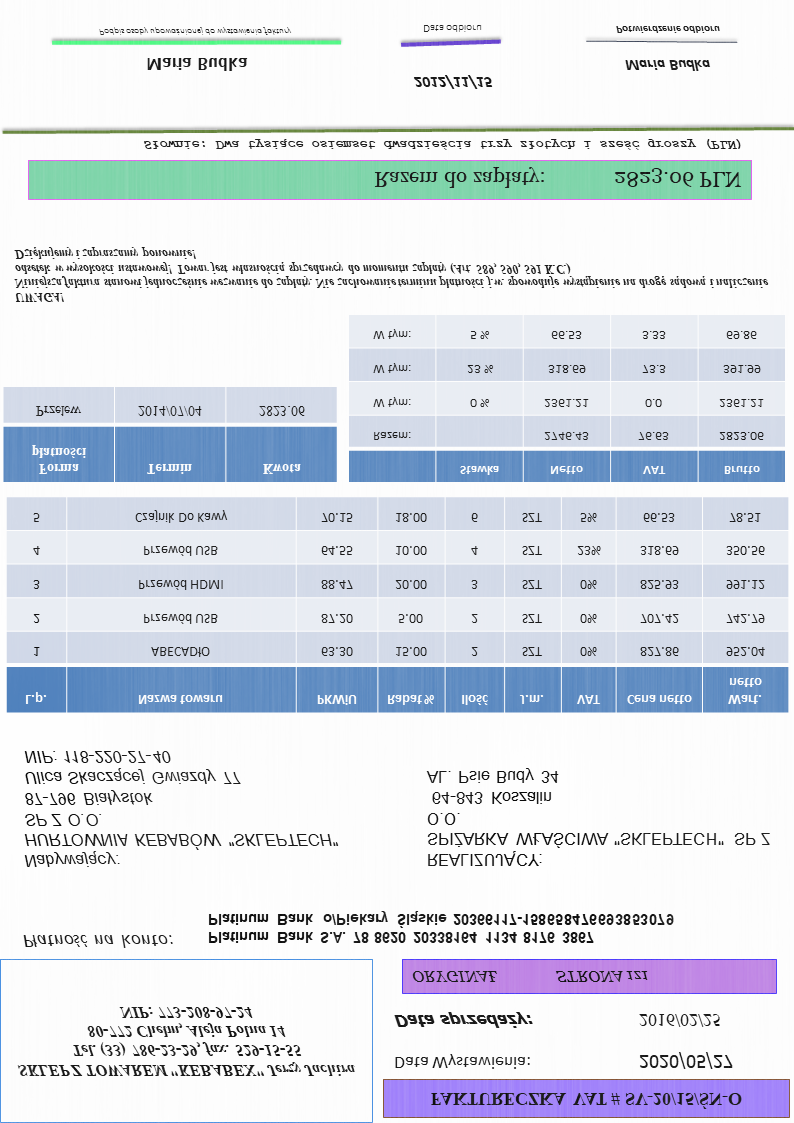Table: (4, 493, 790, 716), (345, 312, 787, 485), (2, 385, 340, 485)
TextBox: (12, 244, 770, 308), (22, 748, 342, 872), (423, 768, 774, 870), (14, 999, 356, 1083), (206, 907, 679, 948), (369, 162, 743, 195), (138, 136, 743, 154), (429, 1086, 749, 1114), (409, 966, 651, 987), (20, 931, 173, 952), (389, 1053, 533, 1073), (391, 1010, 535, 1029), (95, 26, 296, 39), (636, 1049, 736, 1074), (142, 54, 252, 75), (613, 22, 723, 38), (621, 56, 714, 74), (637, 1012, 723, 1030), (410, 74, 496, 92), (419, 21, 487, 37)
